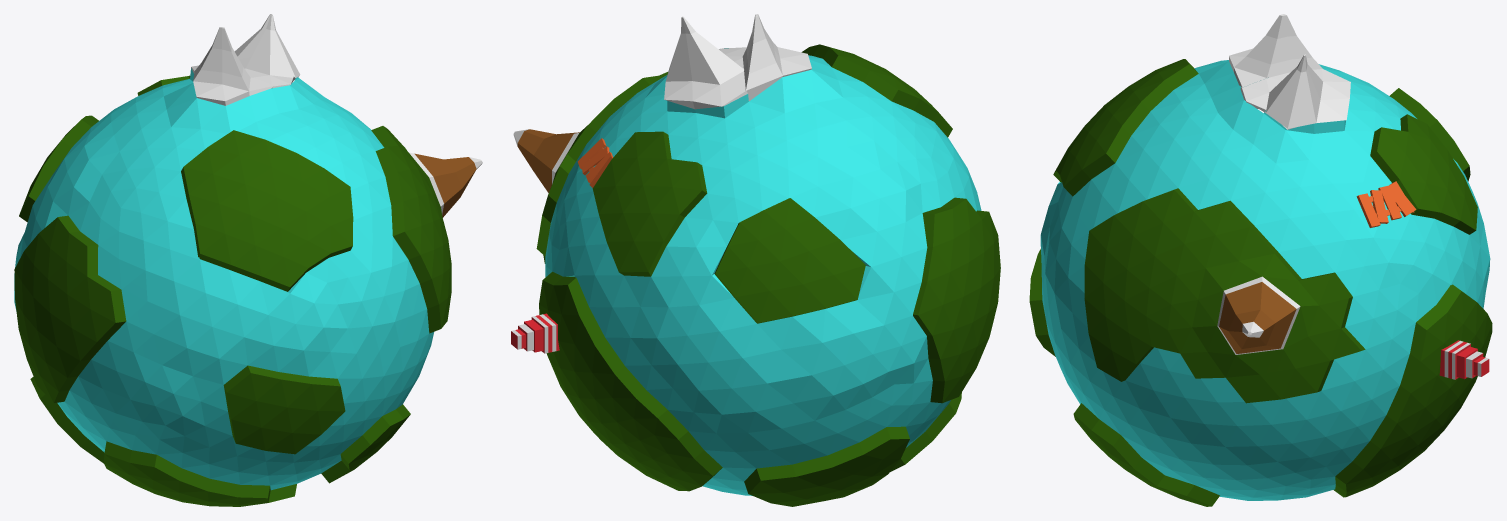
The model's file is world4.glb.
The picture shows the model from 3 angles, left to right: view 1: azimuth 30°, elevation 25°; view 2: azimuth 150°, elevation 25°; view 3: azimuth 270°, elevation 25°; orthographic projection. The views are drawn at different scales.
Parts seen in each view (by area): view 1: Icosphere; view 2: Icosphere, Cube.001, Cube.002; view 3: Icosphere, Cube.002, Cube.001.
Part boxes in pixels (left/top/right/bottom): Icosphere: left=14, top=14, right=482, bottom=506; Icosphere: left=513, top=14, right=1000, bottom=506; Cube.001: left=511, top=313, right=559, bottom=353; Cube.002: left=577, top=138, right=613, bottom=187; Icosphere: left=1029, top=14, right=1492, bottom=506; Cube.002: left=1356, top=181, right=1416, bottom=227; Cube.001: left=1439, top=340, right=1489, bottom=379.
Size of the model in its own units: 2.41 by 2.36 by 2.08.
